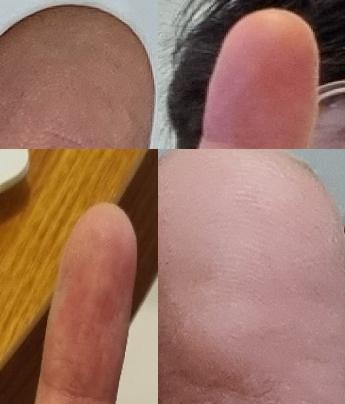Fingerprints: (158, 149, 345, 404), (0, 4, 157, 149), (39, 203, 138, 404), (202, 9, 318, 149)
